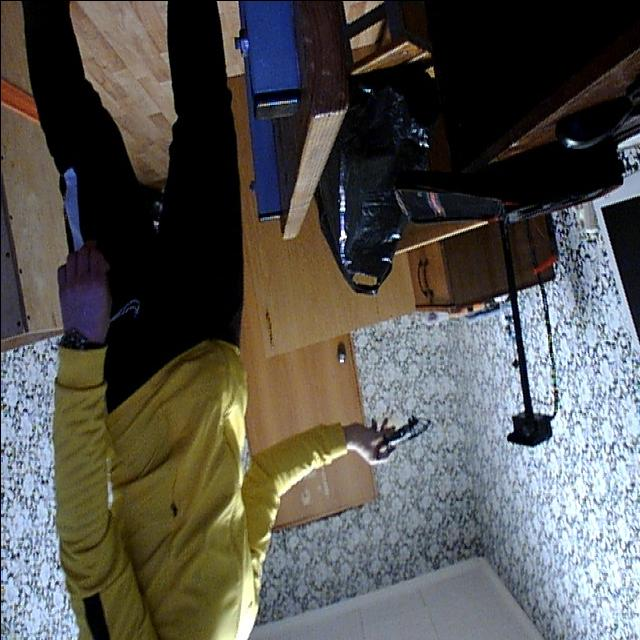drone: (360, 413, 432, 469)
